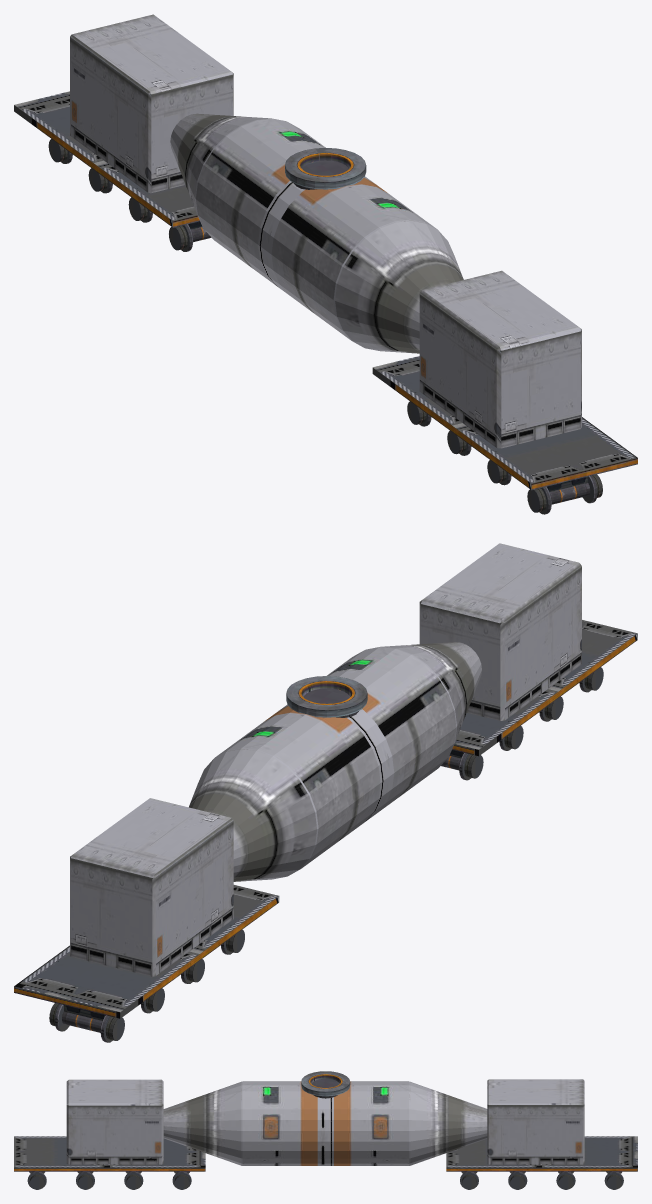
File: 送矿车.obj
The picture shows the model from 3 angles, top to bottom: view 1: azimuth 30°, elevation 25°; view 2: azimuth 150°, elevation 25°; view 3: azimuth 270°, elevation 25°; orthographic projection. The views are drawn at different scales.
Visible parts, largest first — view 1: Cylinder062, Box008, Box410, Box009, Box894, Cylinder063, Cylinder069, Cylinder125; view 2: Cylinder062, Box410, Box008, Box894, Box009, Cylinder063, Cylinder128, Cylinder124; view 3: Cylinder062, Box410, Box008, Box894, Box009, Cylinder063, Cylinder123, Cylinder126, Cylinder069, Cylinder122, Cylinder125, Cylinder128 (+2 smaller).
Boxes of the visible parts, bbox=[...] form: Cylinder062: bbox=[170, 113, 463, 353]; Box008: bbox=[419, 270, 581, 448]; Box410: bbox=[70, 14, 233, 193]; Box009: bbox=[372, 356, 637, 490]; Box894: bbox=[14, 91, 199, 227]; Cylinder063: bbox=[285, 147, 366, 189]; Cylinder069: bbox=[527, 474, 602, 514]; Cylinder125: bbox=[169, 224, 211, 251]; Cylinder062: bbox=[189, 642, 481, 881]; Box410: bbox=[70, 798, 233, 976]; Box008: bbox=[419, 543, 581, 720]; Box894: bbox=[14, 885, 279, 1018]; Box009: bbox=[452, 620, 637, 756]; Cylinder063: bbox=[286, 676, 367, 717]; Cylinder128: bbox=[49, 1003, 124, 1042]; Cylinder124: bbox=[441, 753, 483, 780]; Cylinder062: bbox=[163, 1081, 487, 1165]; Box410: bbox=[487, 1079, 584, 1164]; Box008: bbox=[66, 1079, 163, 1164]; Box894: bbox=[446, 1136, 637, 1171]; Box009: bbox=[14, 1136, 205, 1171]; Cylinder063: bbox=[301, 1071, 350, 1098]; Cylinder123: bbox=[124, 1171, 143, 1189]; Cylinder126: bbox=[508, 1171, 527, 1189]; Cylinder069: bbox=[27, 1171, 46, 1189]; Cylinder122: bbox=[76, 1171, 94, 1189]; Cylinder125: bbox=[460, 1171, 478, 1189]; Cylinder128: bbox=[604, 1171, 623, 1189].
Size of the model in its own units: 3.53 by 4.63 by 25.98.
